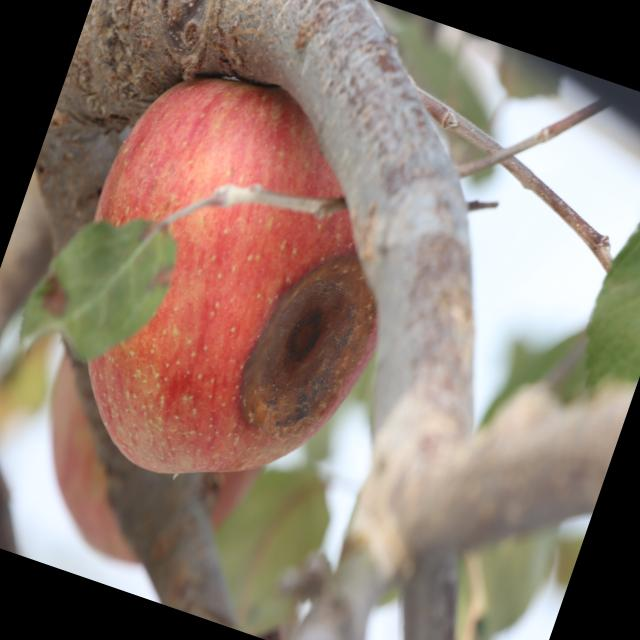rotten: (21, 46, 454, 534)
